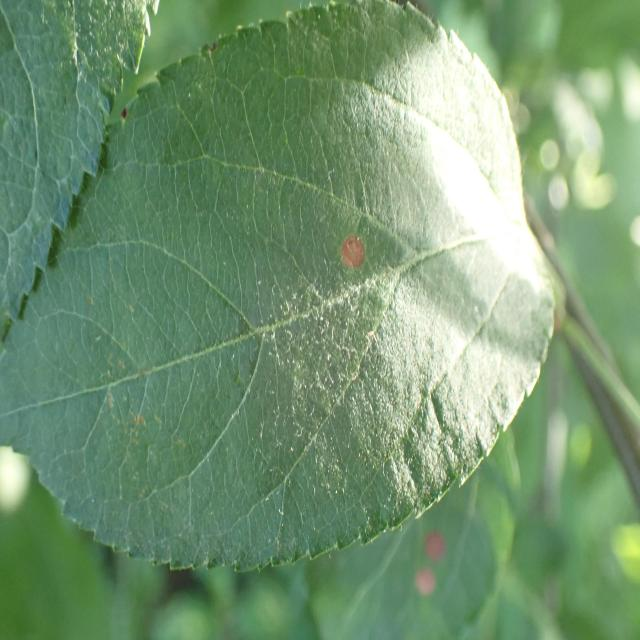Black Rot: (310, 216, 382, 313)
